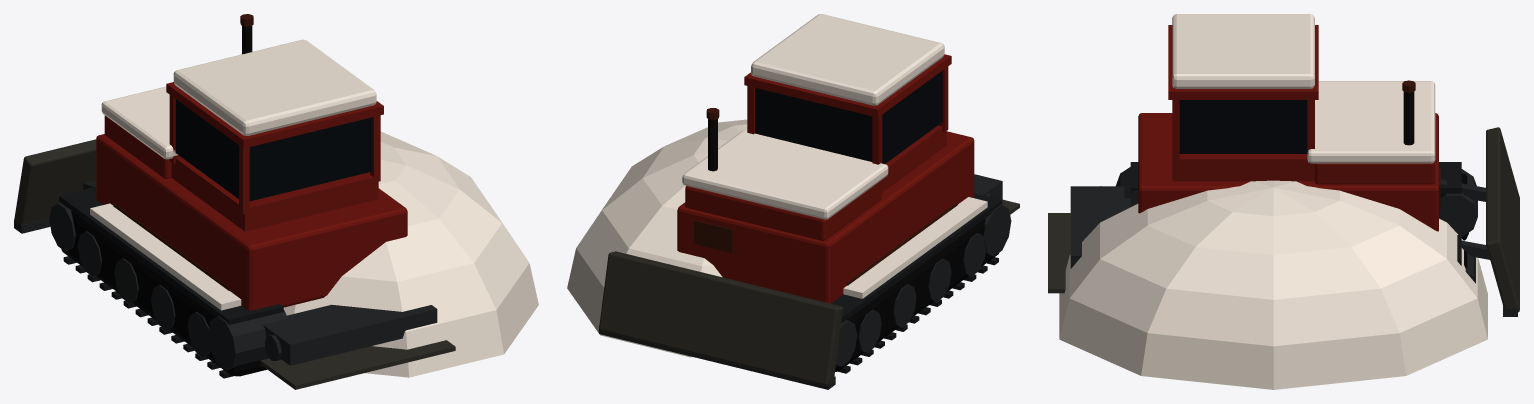
Rendered from rs_snowcat.glb.
The picture shows the model from 3 angles, left to right: view 1: azimuth 30°, elevation 25°; view 2: azimuth 150°, elevation 25°; view 3: azimuth 270°, elevation 25°; orthographic projection. The views are drawn at different scales.
Visible parts, largest first — view 1: snowcat; view 2: snowcat; view 3: snowcat.
Part boxes in pixels (x1,y1,x2,y2): snowcat: [14, 14, 538, 389]; snowcat: [567, 14, 1019, 389]; snowcat: [1048, 14, 1519, 389].
Bounding box in the file's own units: 5.4 × 3.4 × 6.28.
